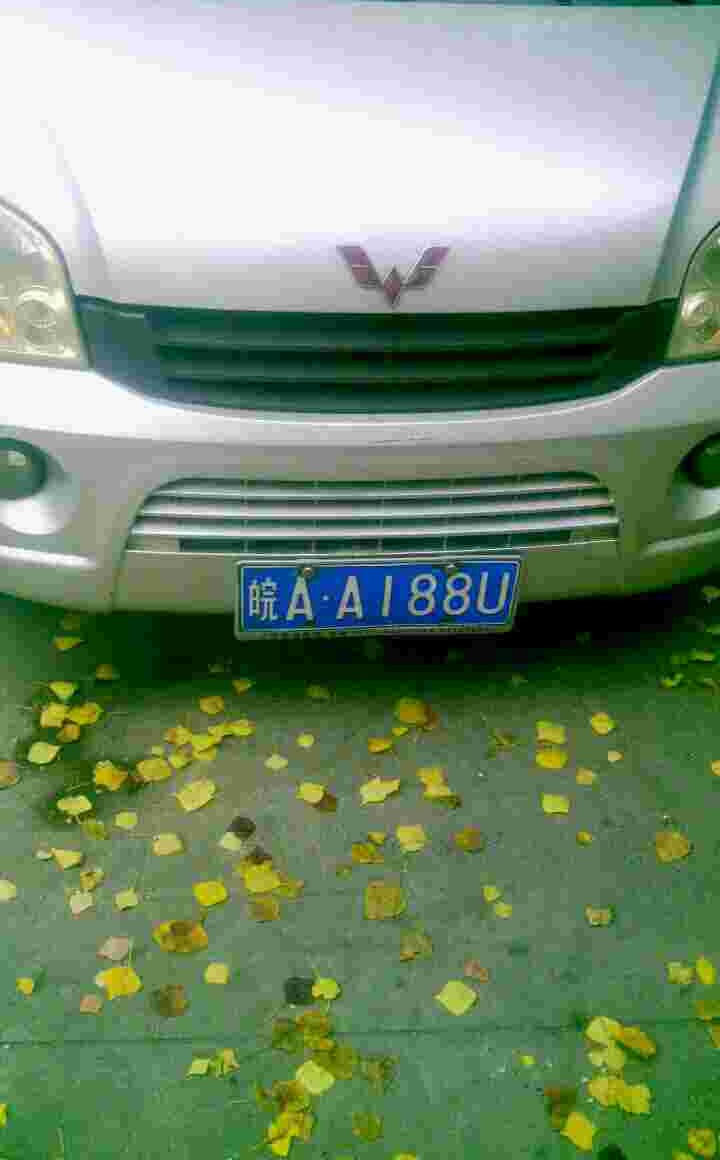car: (235, 556, 527, 635)
